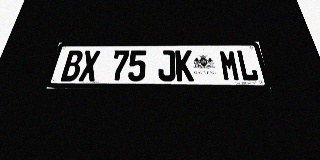5: (128, 50, 146, 81)
7: (110, 50, 130, 81)
B: (60, 50, 84, 81)
J: (158, 50, 176, 81)
K: (175, 50, 194, 81)
L: (236, 50, 260, 81)
M: (219, 50, 241, 81)
X: (78, 50, 101, 81)
